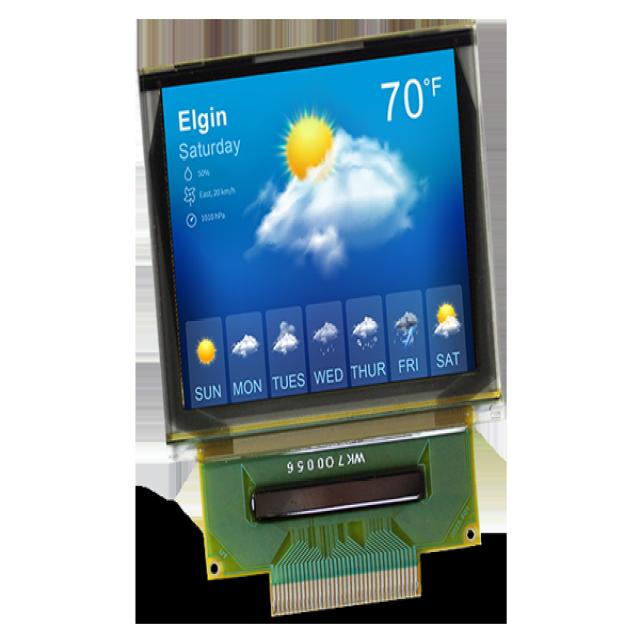Display: (119, 22, 515, 469)
